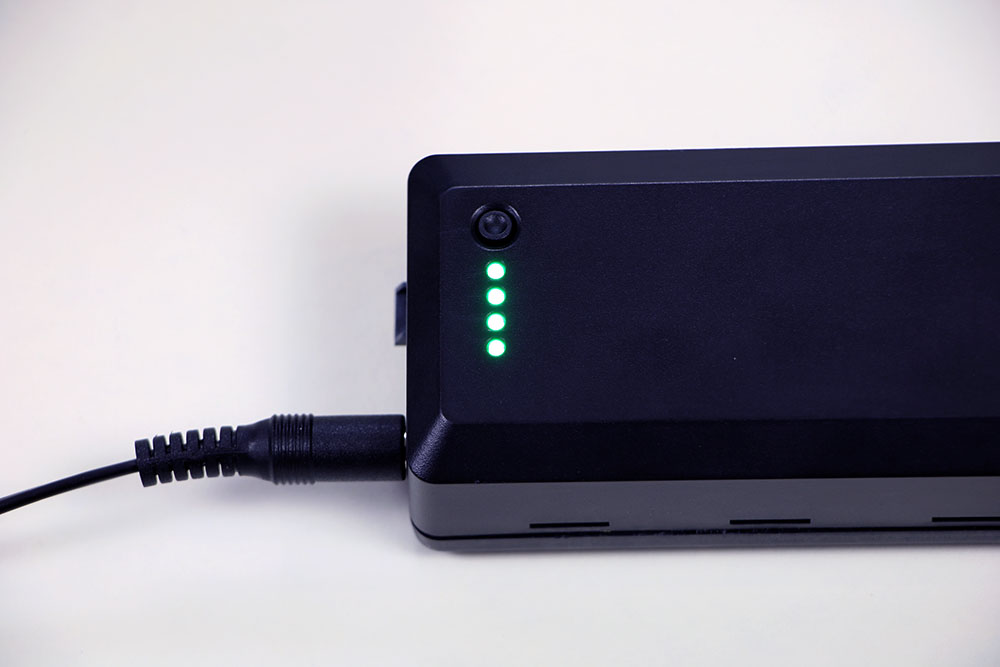Battery4: (469, 246, 521, 375)
